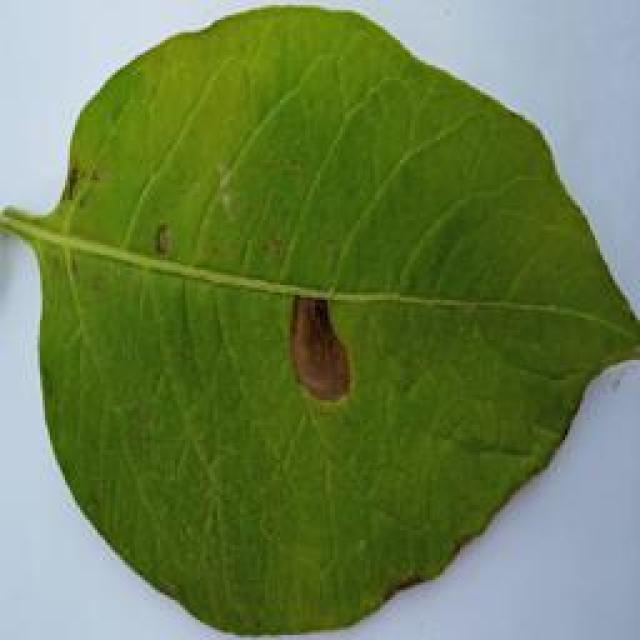Potato_Late_Blight: (5, 6, 629, 634)
